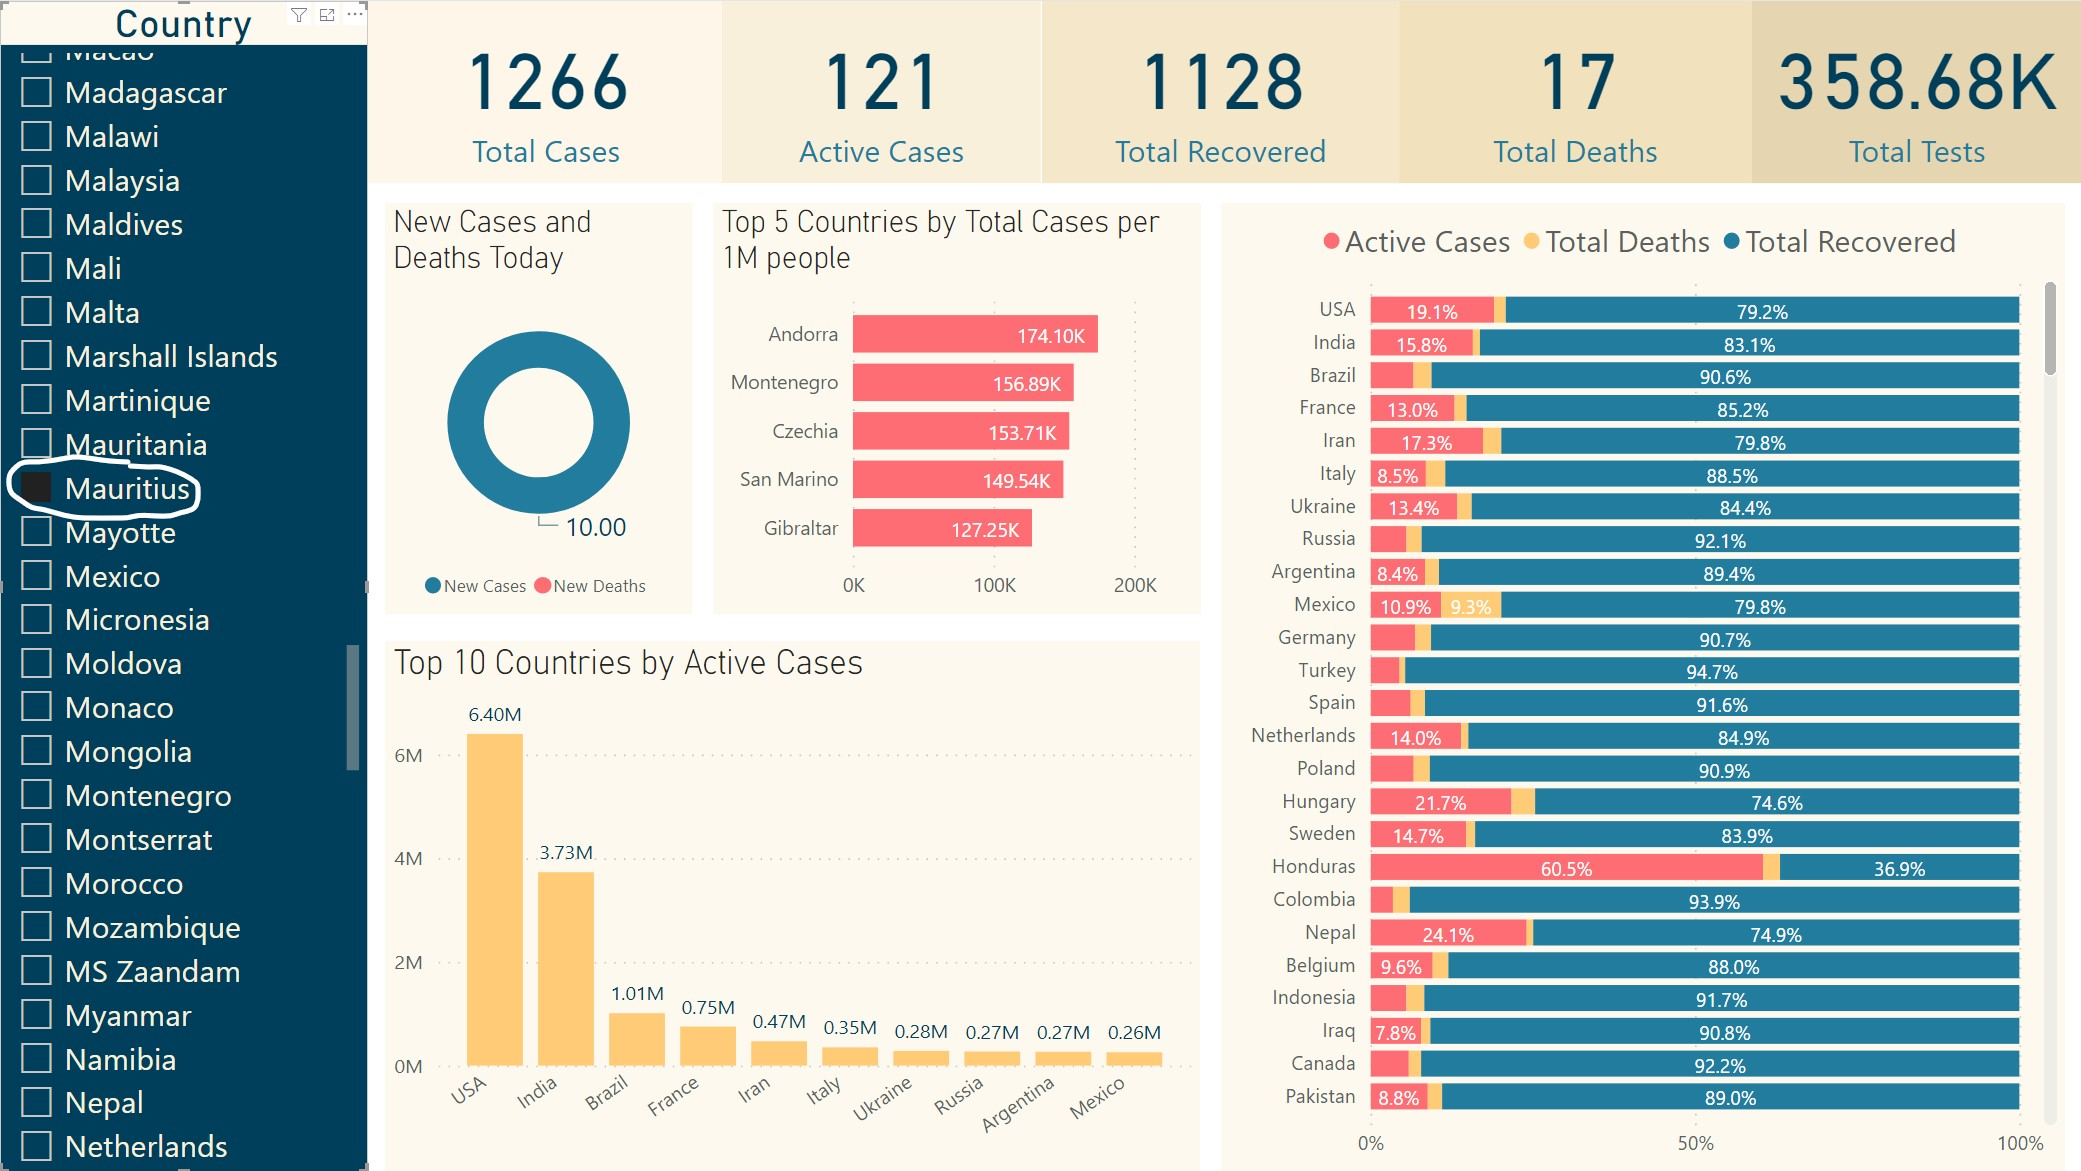

This screenshot's page, from the dashboard's own definition file:
{"tool":"powerbi","page":{"name":"Page 1","canvas":[1280,720],"ordinal":0},"visuals":[{"type":"slicer","title":"Country","fields":{"Values":["Table 1.Country,Other"]},"box":[0,0,226.2,719.7],"z":0},{"type":"card","title":"Total Cases","fields":{"Values":["Sum(Table 1.TotalCases)"]},"box":[226.2,0,218.6,112.1],"z":1000},{"type":"card","title":"Total Cases","fields":{"Values":["Sum(Table 1.Active Cases)"]},"box":[444.1,0,196.3,111.8],"z":2000},{"type":"card","title":"Total Cases","fields":{"Values":["Sum(Table 1.Total Deaths)"]},"box":[860,0,217.1,111.8],"z":3000},{"type":"card","title":"Total Cases","fields":{"Values":["Sum(Table 1.Total Recovered)"]},"box":[640.4,0,219.5,111.8],"z":4000},{"type":"hundredPercentStackedBarChart","fields":{"Category":["Table 1.Country,Other"],"Y":["Sum(Table 1.Active Cases)","Sum(Table 1.Total Deaths)","Sum(Table 1.Total Recovered)"]},"box":[750.6,124.3,519.5,595.7],"z":5000},{"type":"donutChart","title":"New Cases and Deaths Today","fields":{"Y":["Sum(Table 1.New Cases)","Sum(Table 1.New Deaths)"]},"box":[236.9,124.3,188.9,252.7],"z":6000},{"type":"columnChart","title":"Top 10 Countries by Active Cases","fields":{"Category":["Table 1.Country,Other"],"Y":["Sum(Table 1.Active Cases)"]},"box":[236.9,393.5,501.2,326.4],"z":7000},{"type":"clusteredBarChart","title":"Top 5 Countries by Total Cases per 1M people","fields":{"Category":["Table 1.Country,Other"],"Y":["Sum(Table 1.Total Cases/1M pop)"]},"box":[438.3,124.3,299.9,252.7],"z":8000},{"type":"card","title":"Total Cases","fields":{"Values":["Sum(Table 1.Total Tests)"]},"box":[1077,0,203,111.8],"z":9000}]}

Visuals, with their boxes on the page's 1280x720 design canvas (x1, y1, x2, y2). These are canvas units, not pixel positions in the 2081x1171 screenshot, which may show the page scaled, cropped or inside an application window:
"Country" slicer: <region>0, 0, 226, 720</region>
"Total Cases" card: <region>226, 0, 445, 112</region>
"Total Cases" card: <region>444, 0, 640, 112</region>
"Total Cases" card: <region>860, 0, 1077, 112</region>
"Total Cases" card: <region>640, 0, 860, 112</region>
hundredPercentStackedBarChart - Table 1.Country,Other x Sum(Table 1.Active Cases): <region>751, 124, 1270, 720</region>
"New Cases and Deaths Today" donutChart: <region>237, 124, 426, 377</region>
"Top 10 Countries by Active Cases" columnChart: <region>237, 394, 738, 720</region>
"Top 5 Countries by Total Cases per 1M people" clusteredBarChart: <region>438, 124, 738, 377</region>
"Total Cases" card: <region>1077, 0, 1280, 112</region>
